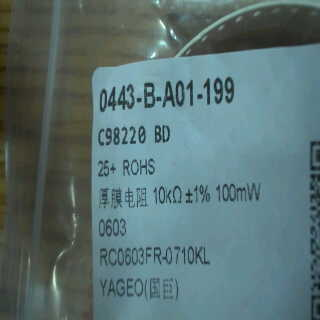10kR: (151, 183, 183, 209)
